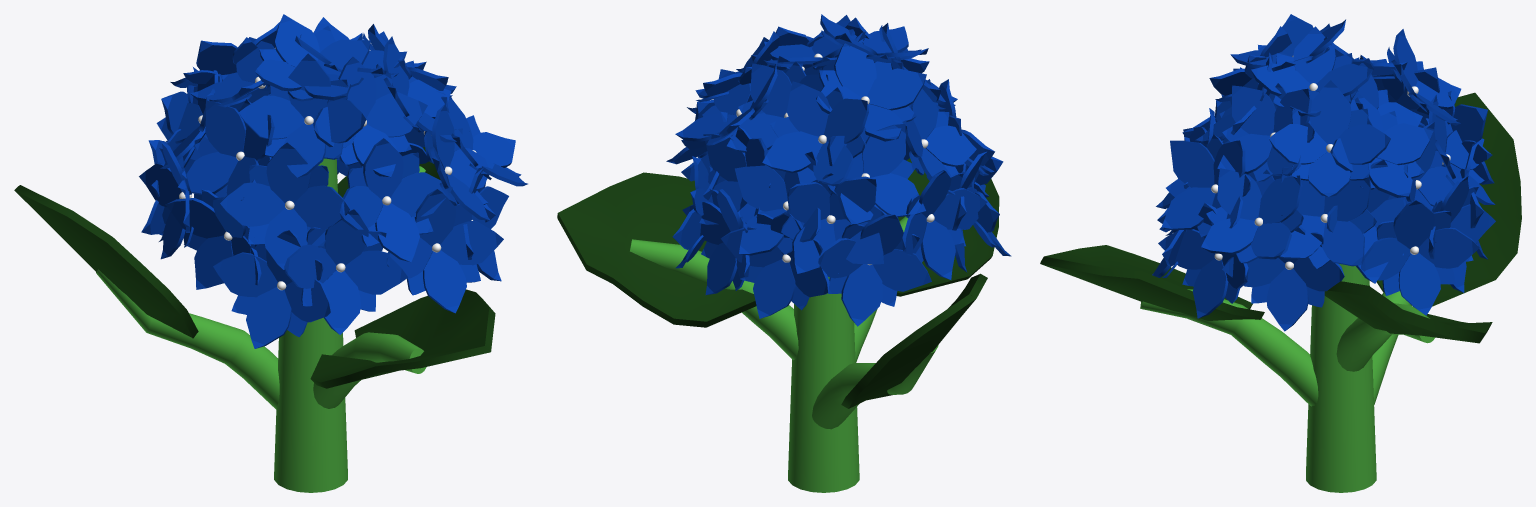
Rendered from hydrangeav3.fbx.
The picture shows the model from 3 angles, left to right: view 1: azimuth 30°, elevation 25°; view 2: azimuth 150°, elevation 25°; view 3: azimuth 270°, elevation 25°; orthographic projection. The views are drawn at different scales.
Visible parts, largest first — view 1: Cylinder003; view 2: Cylinder003; view 3: Cylinder003.
Part boxes in pixels (x1=…): Cylinder003: x1=14, y1=14, x2=527, y2=492; Cylinder003: x1=557, y1=14, x2=1011, y2=492; Cylinder003: x1=1040, y1=14, x2=1521, y2=492.
Bounding box in the file's own units: 0.9705 × 0.9698 × 0.9474.
